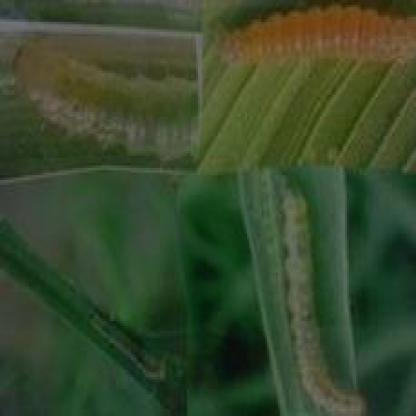leaf-folder: (19, 19, 197, 178), (258, 181, 375, 416), (216, 0, 416, 80), (60, 284, 188, 386)
